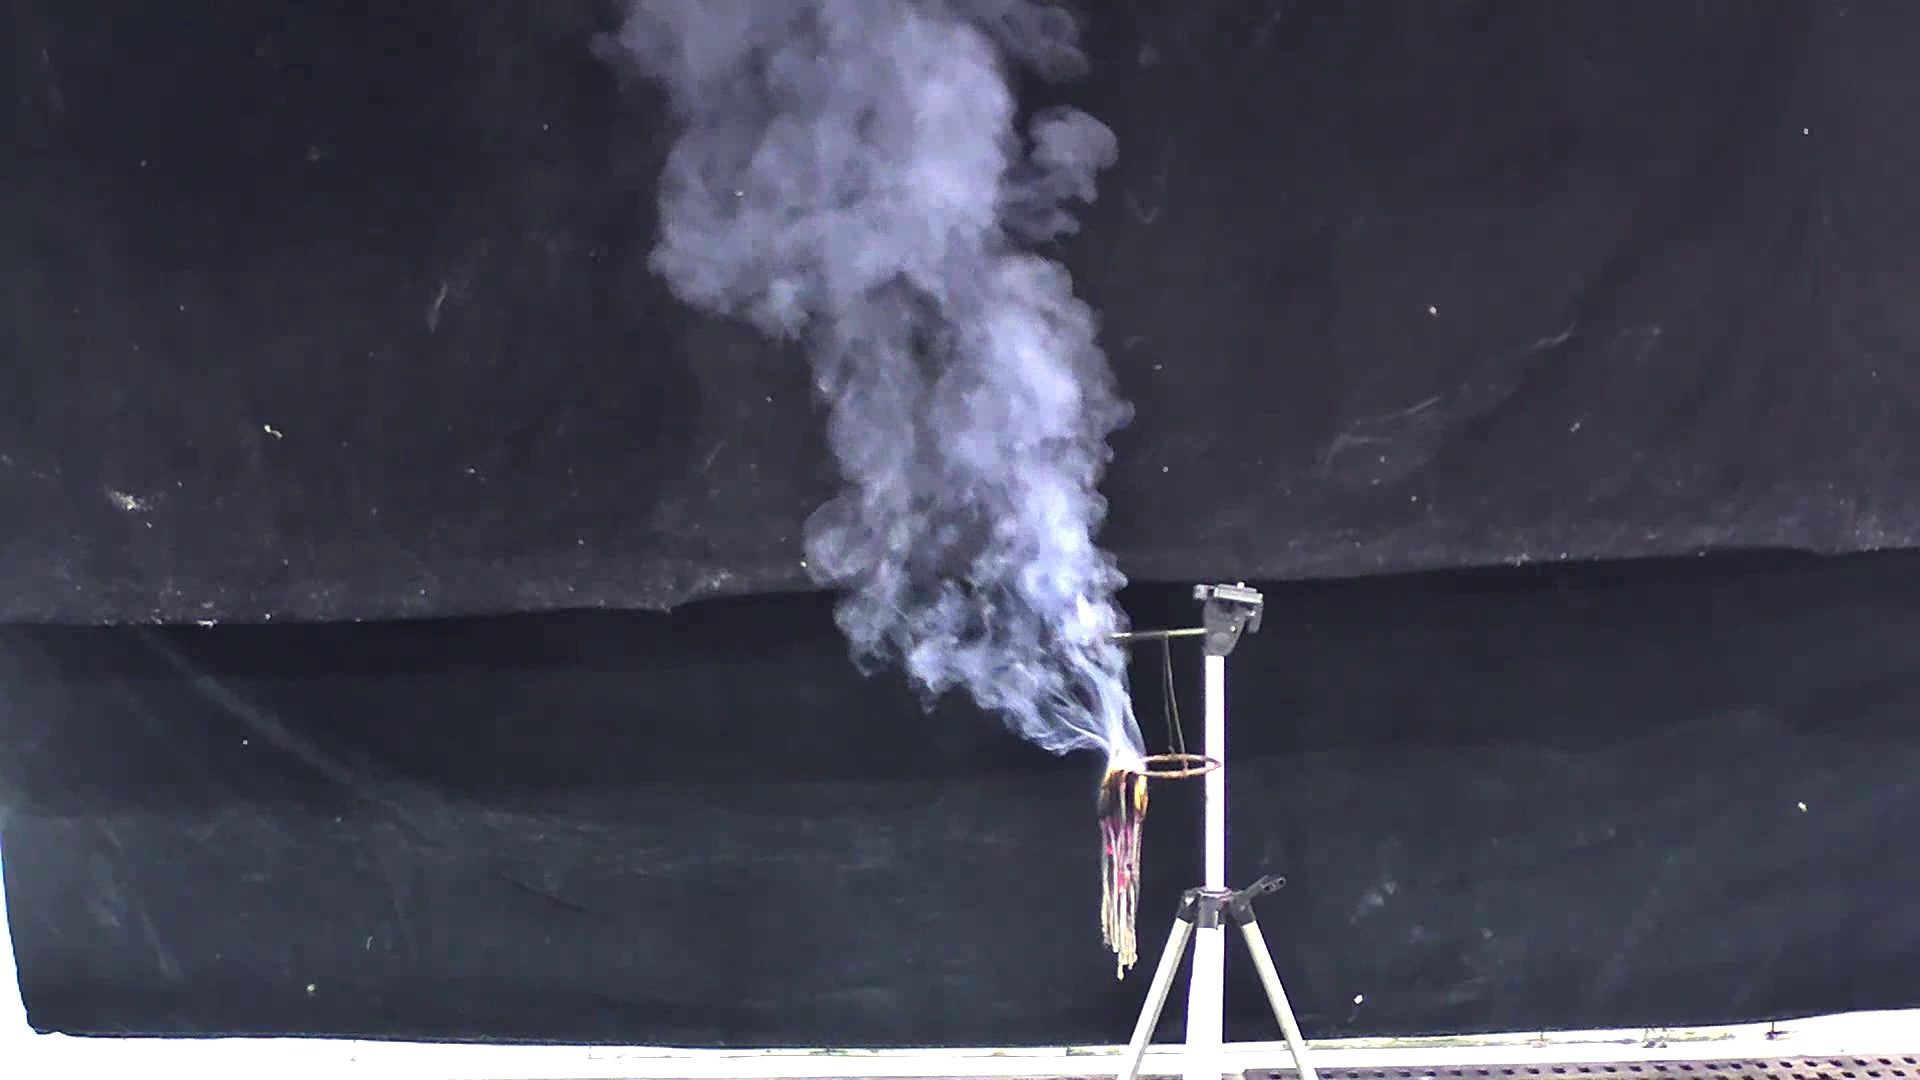smoke: (611, 18, 1150, 778)
